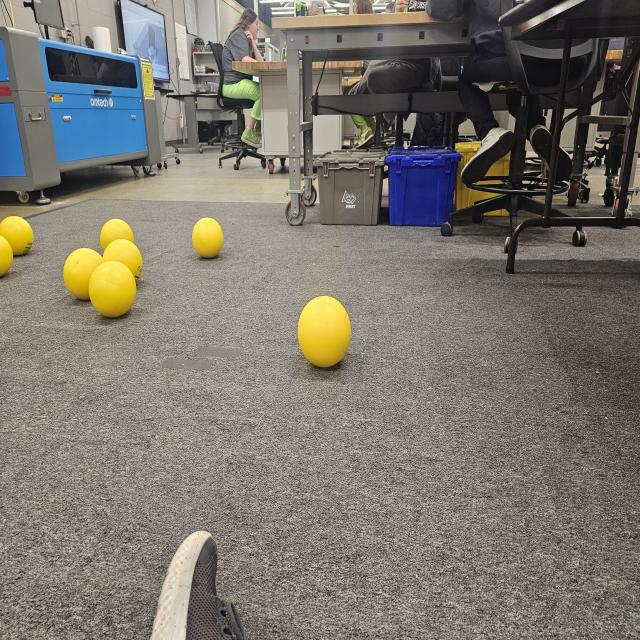Fuel: (298, 294, 350, 368), (90, 260, 137, 320), (64, 248, 106, 300), (102, 240, 143, 290), (0, 216, 34, 258), (192, 218, 223, 258), (101, 218, 133, 255), (0, 237, 13, 277)
